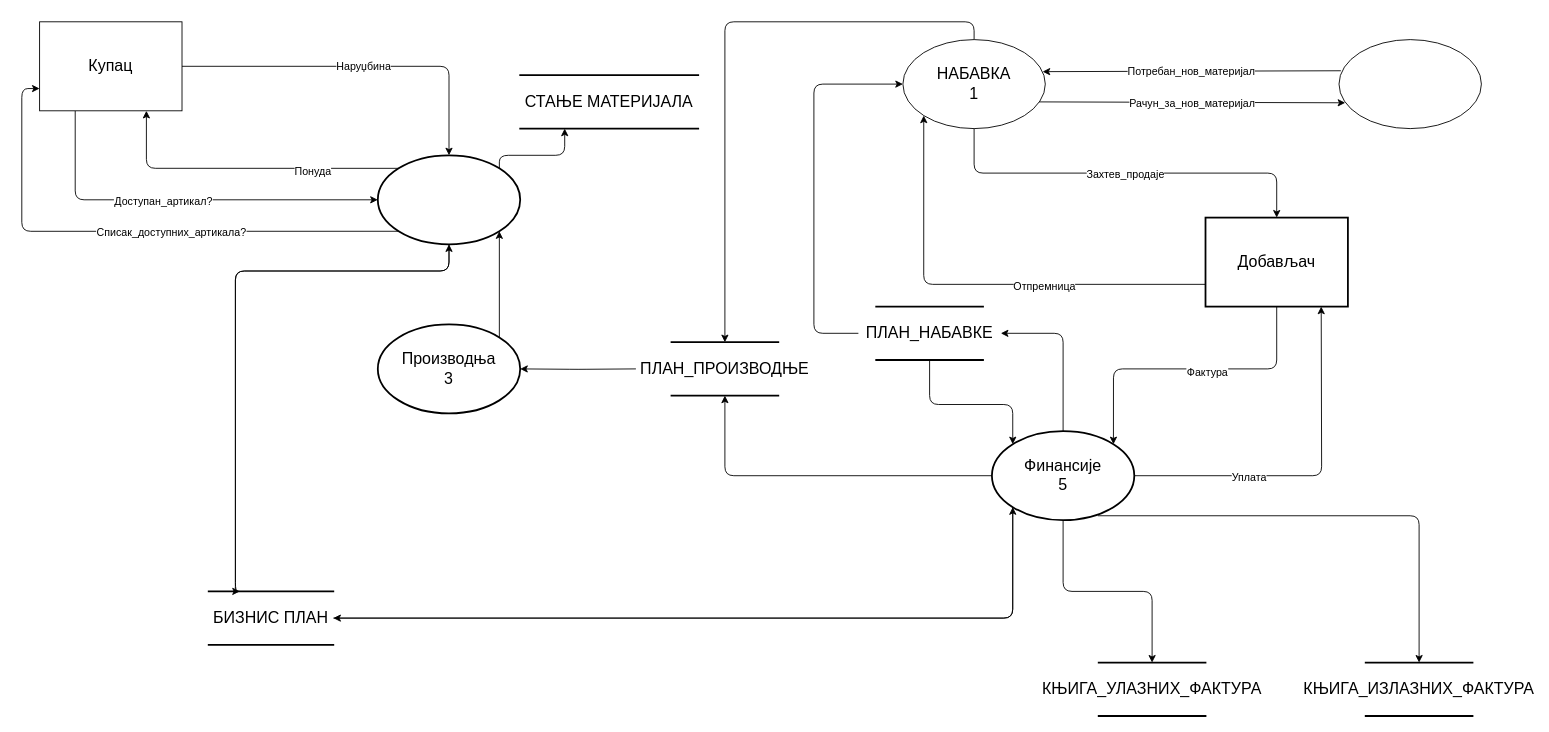
The diagram is 1549 pixels wide and 732 high, and some of its shapes have lost their labels. The shapes that lost their labels are listed below. From the top down, each one's box as (x1, y1, x2, y2) in pixels, then its label:
(1338, 39, 1481, 129): ОДРЖАВАЊЕ 2
(376, 154, 521, 245): Продаја 4
